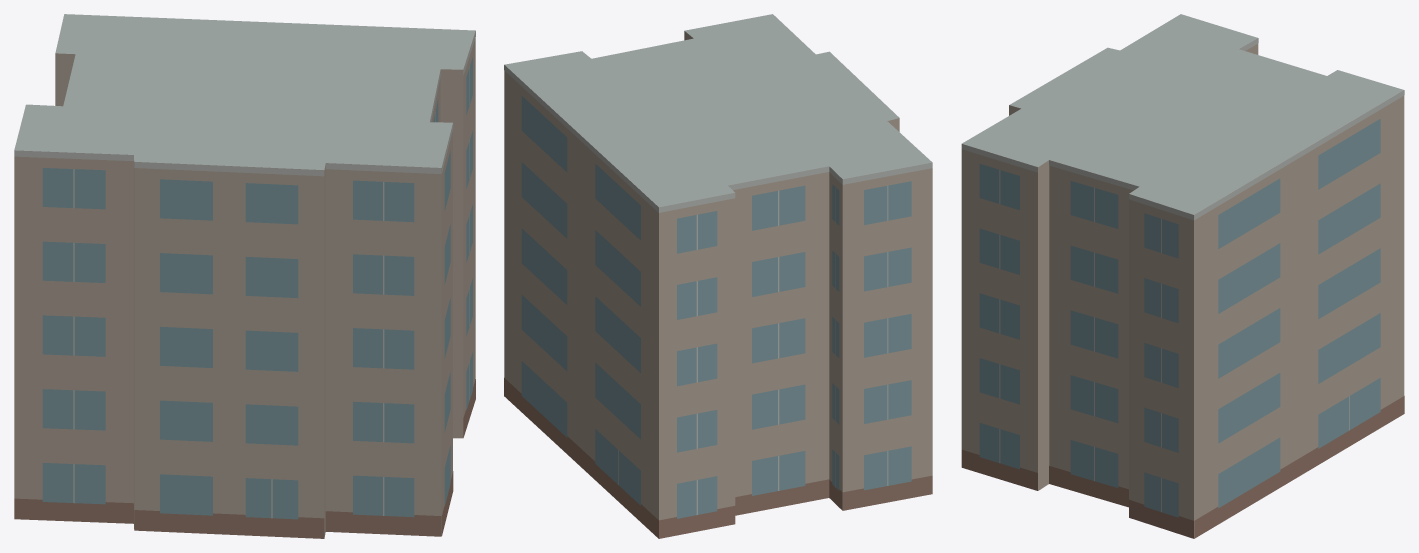
File: survey-upis-33013409.glb
3 views of the same model, side by side, from view 1: azimuth 30°, elevation 25°; view 2: azimuth 150°, elevation 25°; view 3: azimuth 270°, elevation 25° (orthographic). The views are drawn at different scales.
Visible parts, largest first — view 1: survey-upis-33013409.tmp; view 2: survey-upis-33013409.tmp; view 3: survey-upis-33013409.tmp.
Part boxes in pixels (x1,y1,x2,y2): survey-upis-33013409.tmp: [14, 14, 475, 538]; survey-upis-33013409.tmp: [504, 14, 932, 538]; survey-upis-33013409.tmp: [961, 14, 1404, 538].
Bounding box in the file's own units: 19.45 × 14.6 × 18.1.
